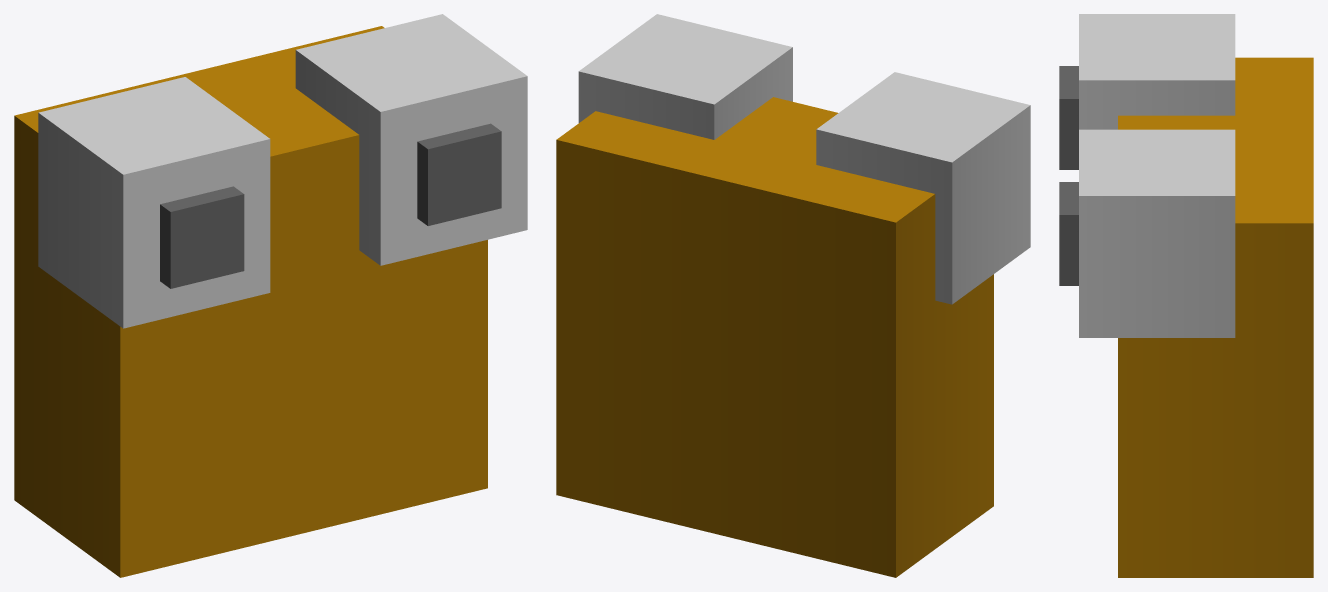
The model's file is flutter-head.glb.
3 renders of one model, left to right at view 1: azimuth 30°, elevation 25°; view 2: azimuth 150°, elevation 25°; view 3: azimuth 270°, elevation 25°, orthographic. The views are drawn at different scales.
Visible parts, largest first — view 1: mesh0; view 2: mesh0; view 3: mesh0.
Boxes of the visible parts, x1,y1,x2,y2 form: mesh0: [14, 14, 527, 577]; mesh0: [556, 14, 1030, 577]; mesh0: [1059, 14, 1313, 577].
Bounding box in the file's own units: 0.22 × 0.22 × 0.13.
